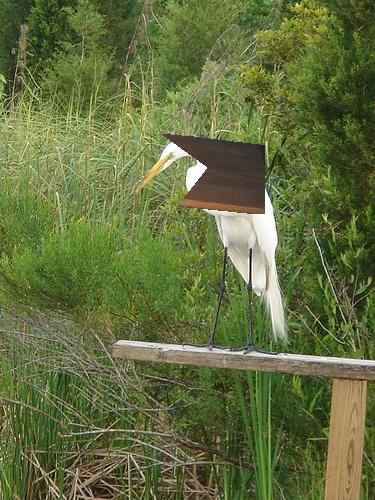tampered: (163, 135, 265, 214)
